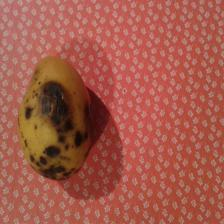Mango Semirotten: (19, 49, 93, 182)
